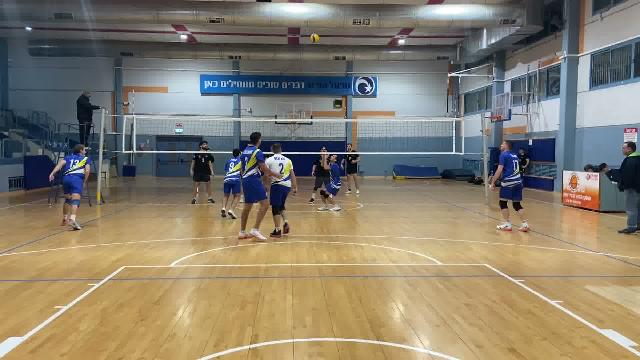ball: (309, 30, 319, 49)
